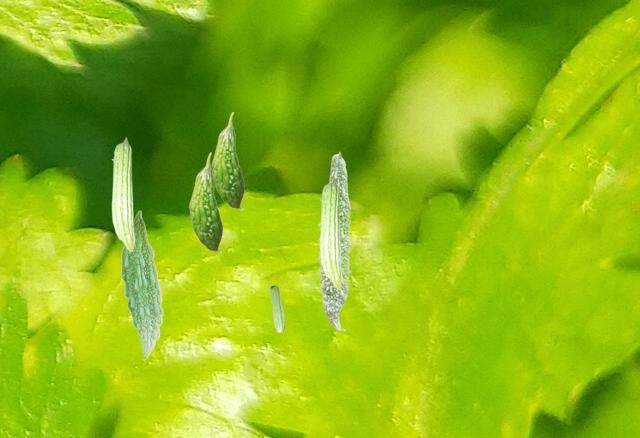ampalaya: (317, 151, 352, 331), (121, 210, 163, 360), (188, 152, 223, 253), (211, 111, 245, 211), (111, 137, 135, 252), (319, 177, 342, 290), (269, 284, 285, 333)
